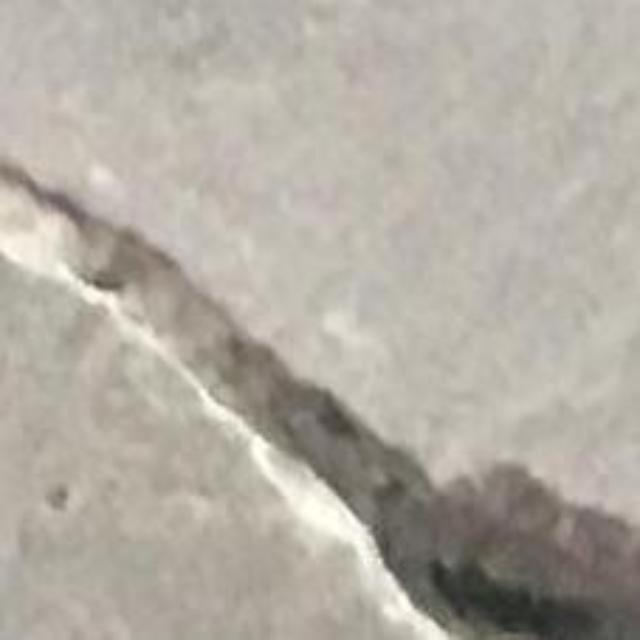crack: (0, 156, 639, 639)
